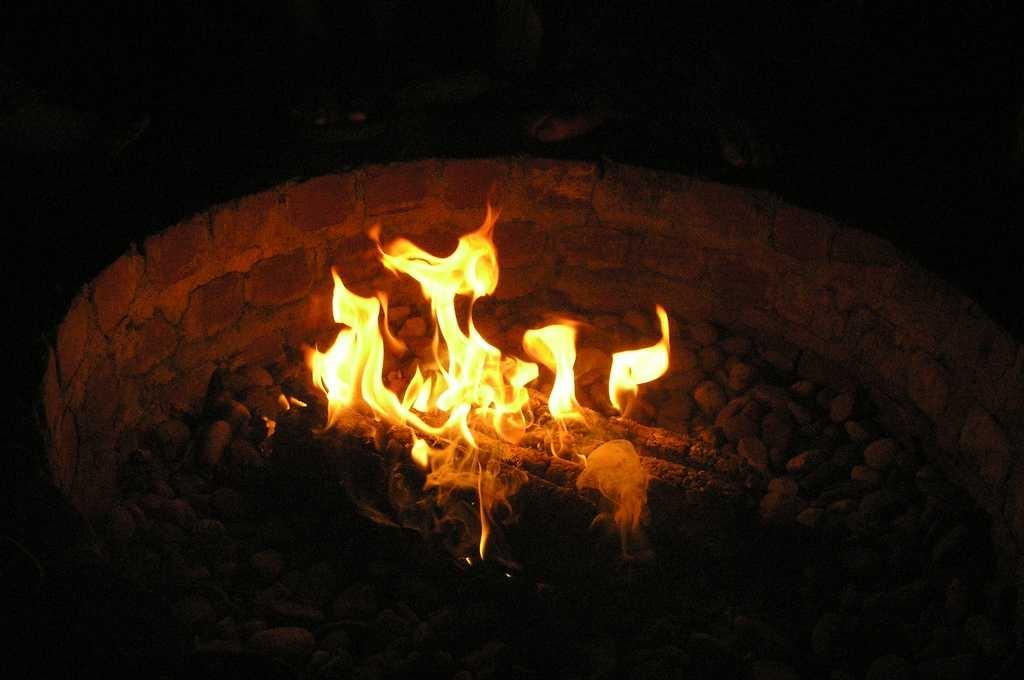fire: (322, 292, 392, 398), (397, 222, 498, 293), (428, 337, 503, 420), (535, 327, 577, 417), (613, 347, 675, 392)
